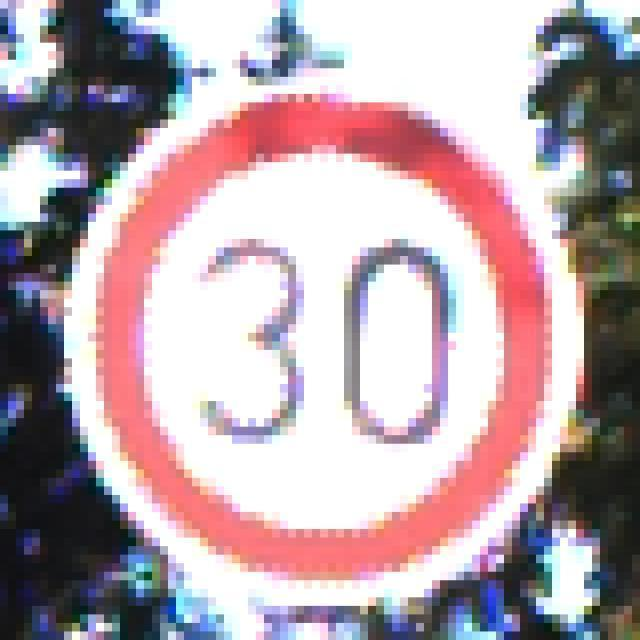Ograniczenie predkosci do 30: (88, 90, 563, 585)
